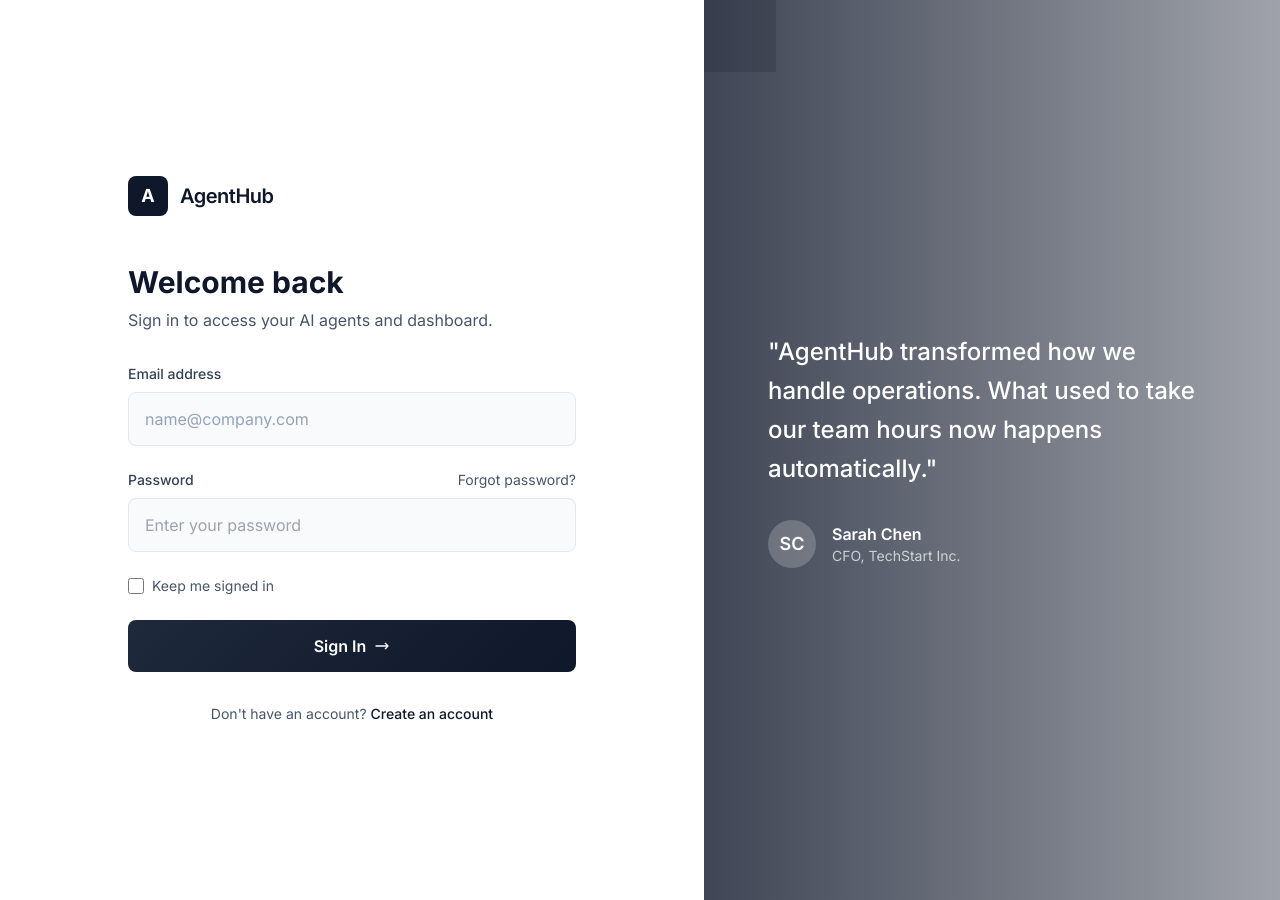
it: LoginPage › Form Submission › should not redirect on login error
The image size is (1280, 900).
Type "test@example.com" into the field with placeholder "name@company.com" at (352, 419), box [128, 392, 576, 446]
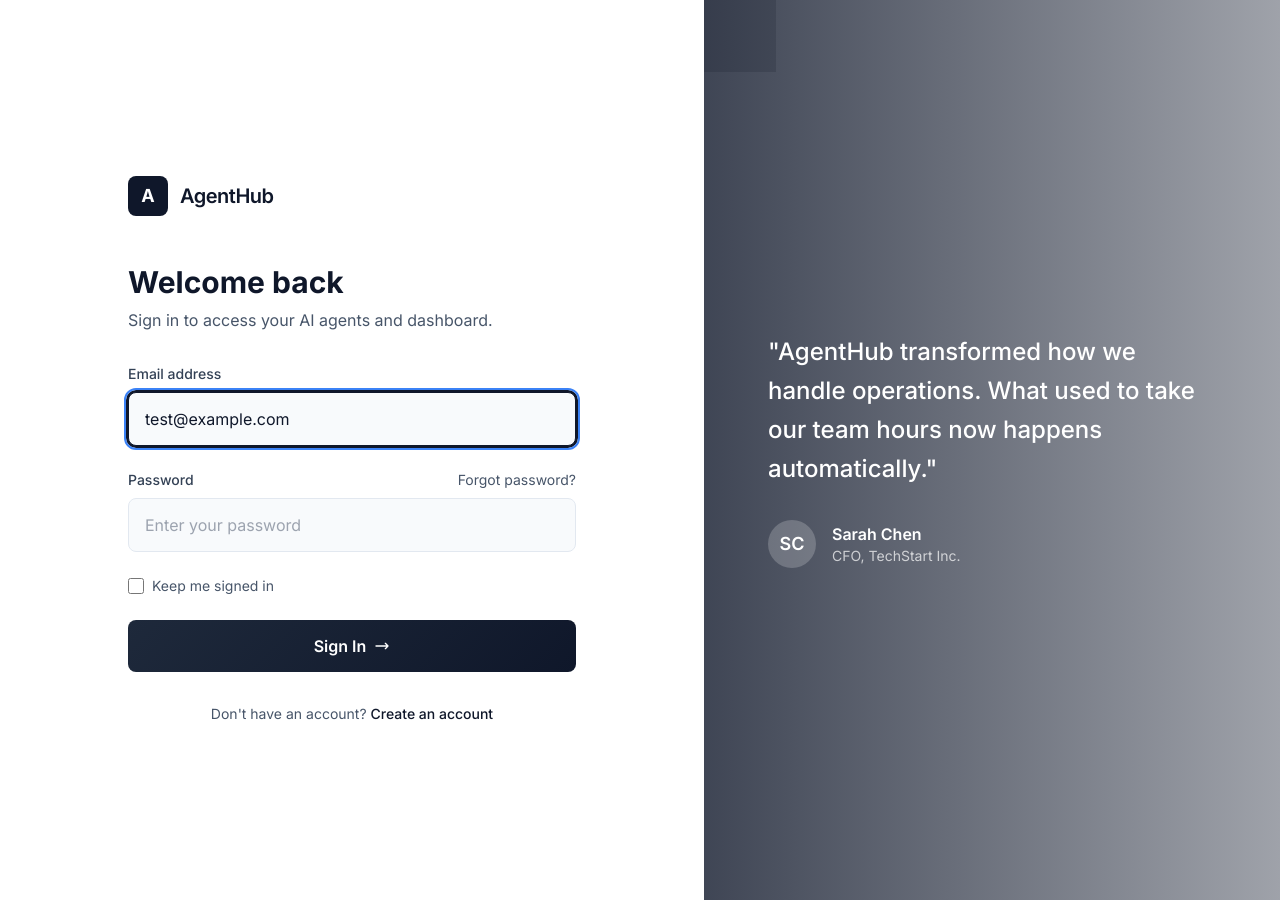
Type "password" into the password field with placeholder "Enter your password" at (352, 525), box [128, 498, 576, 552]
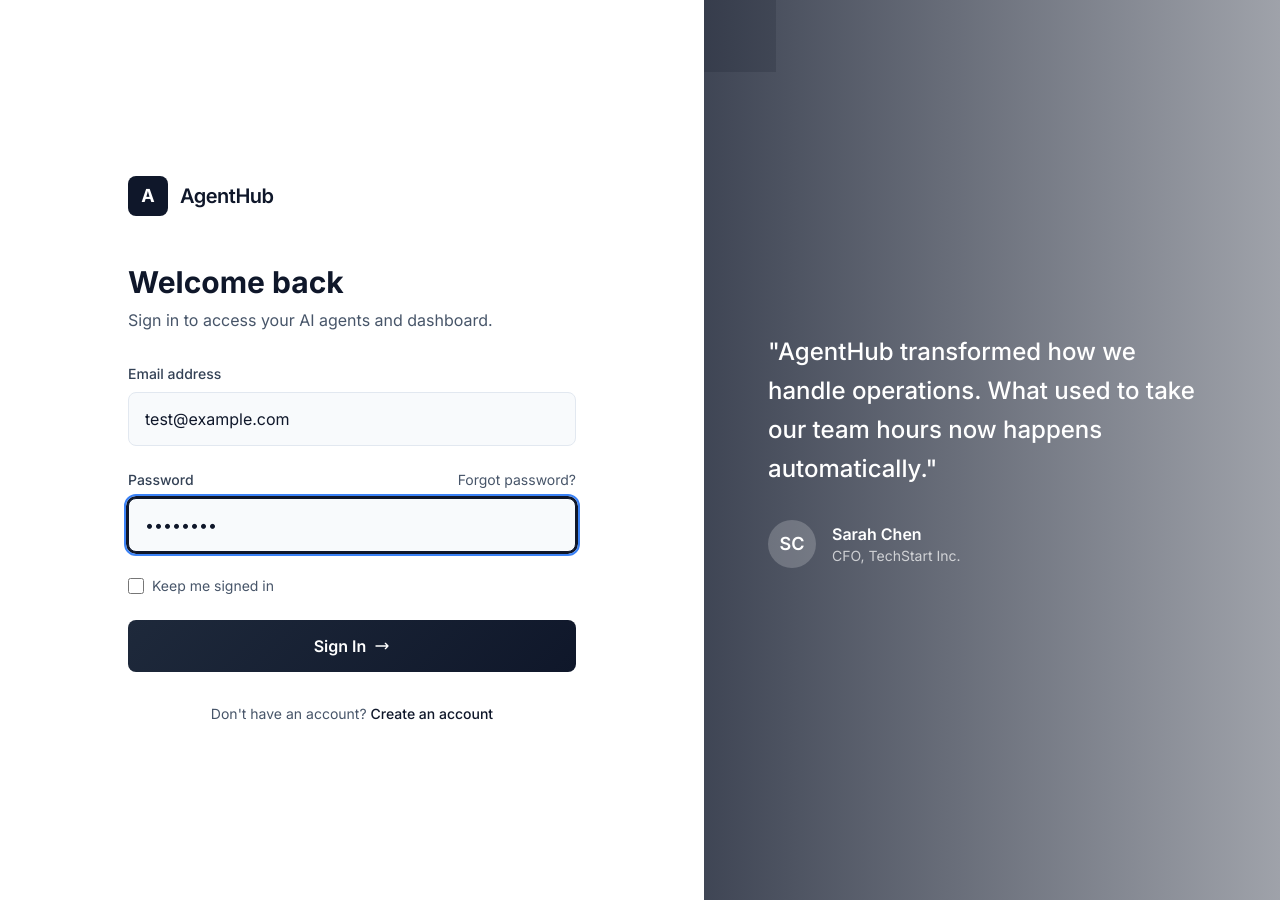
Click the button "Sign In" at (352, 646), box [128, 620, 576, 672]
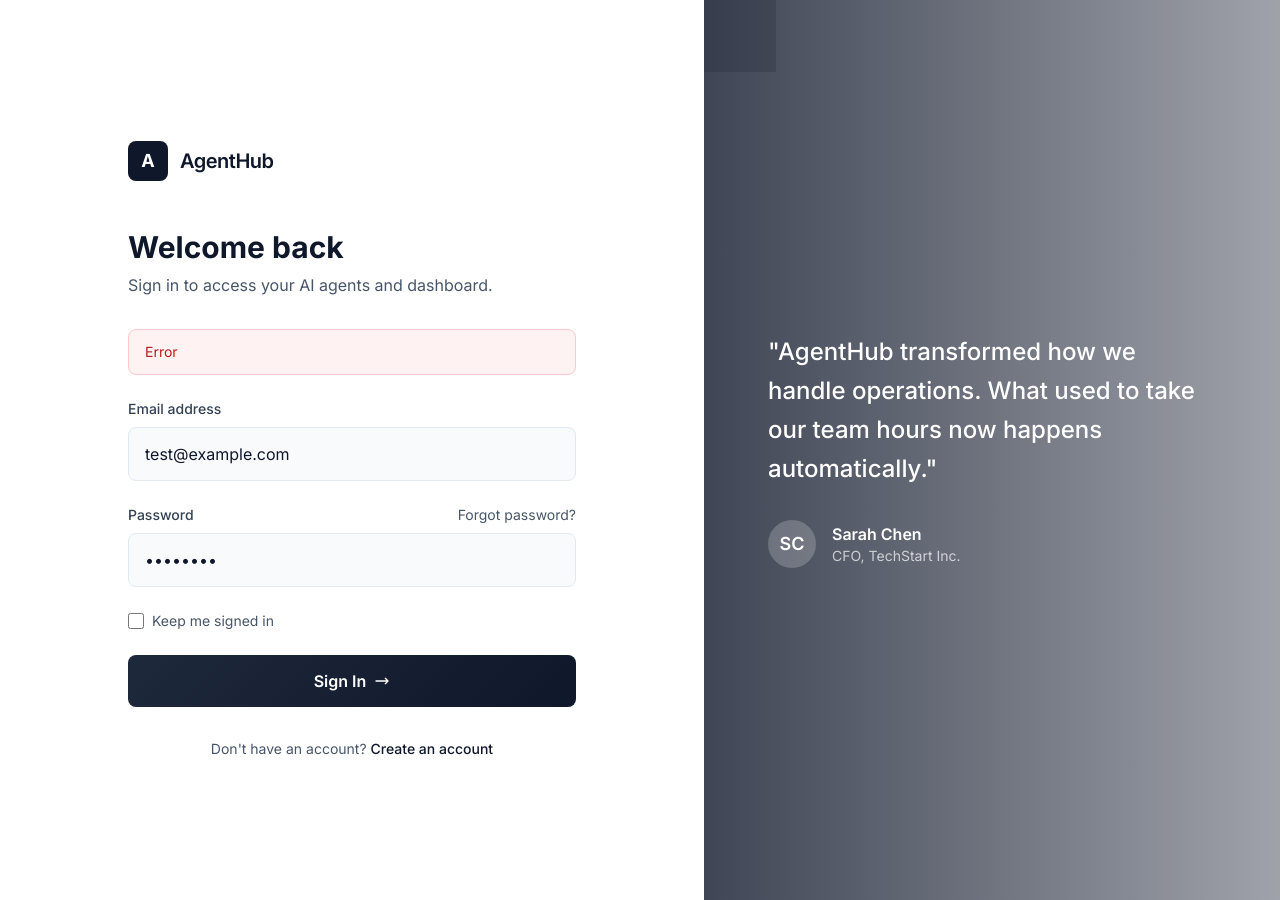
Result: the text "Error" is shown at [128, 329, 576, 375]
